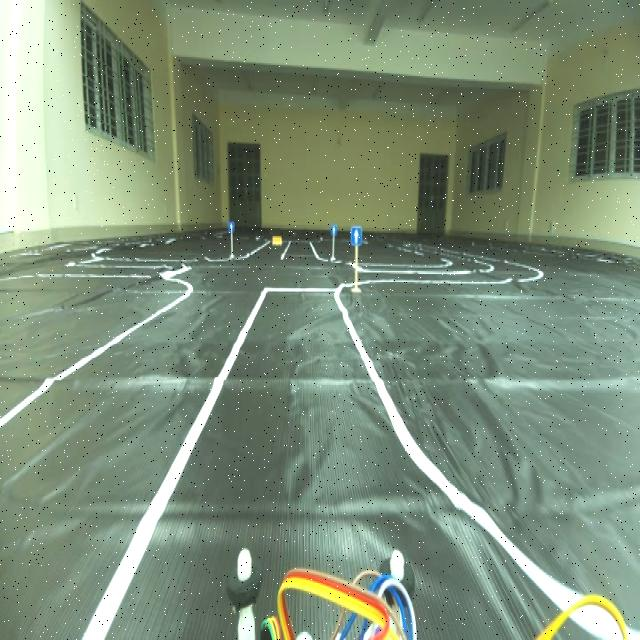onewayroad: (346, 222, 364, 245), (226, 220, 239, 235), (329, 221, 340, 238)
roadblock: (269, 230, 283, 248)
